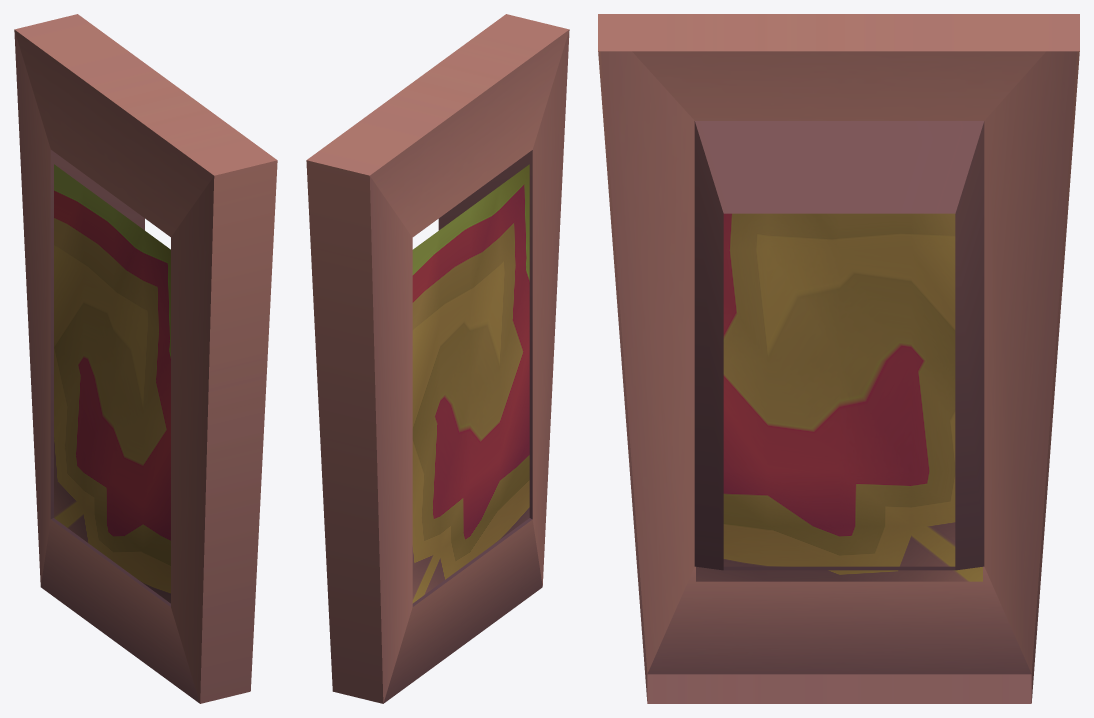
Rendered from SM_ArtPiece1.fbx.
The picture shows the model from 3 angles, left to right: view 1: azimuth 30°, elevation 25°; view 2: azimuth 150°, elevation 25°; view 3: azimuth 270°, elevation 25°; orthographic projection. The views are drawn at different scales.
Parts seen in each view (by area): view 1: SM_Painting4; view 2: SM_Painting4; view 3: SM_Painting4.
Part boxes in pixels (box(x1,y1,x2,y2)): SM_Painting4: box(14, 14, 277, 703); SM_Painting4: box(306, 14, 569, 703); SM_Painting4: box(598, 14, 1079, 703).
Size of the model in its own units: 23.98 by 101 by 152.
